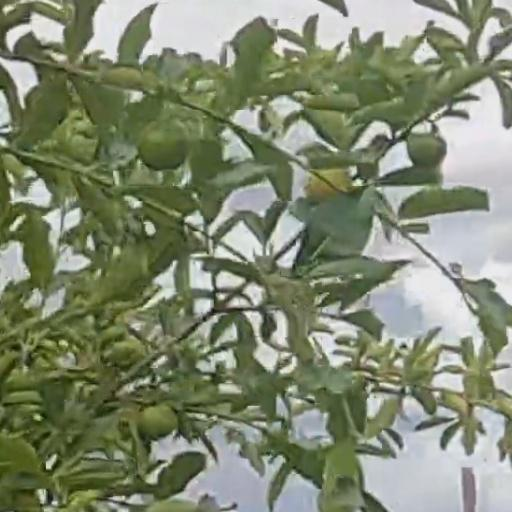acerola: (140, 124, 187, 168), (308, 166, 342, 201), (406, 134, 444, 165)
